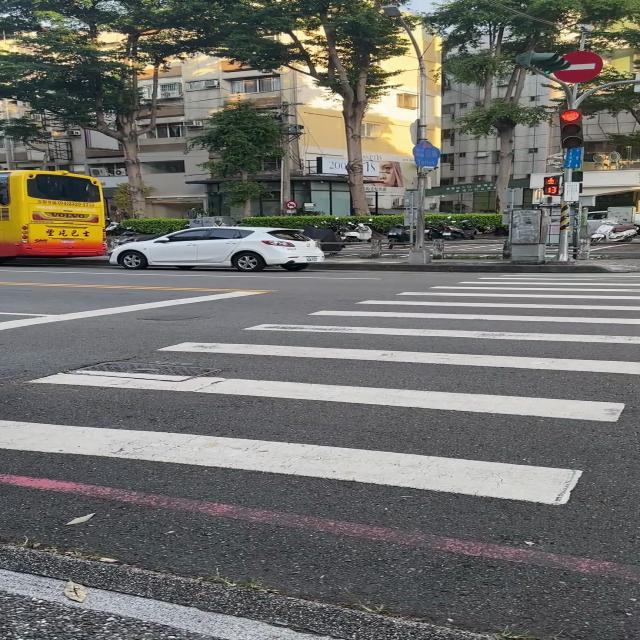bus: (0, 170, 106, 259)
car: (108, 226, 324, 271)
crosswalk: (0, 272, 640, 506)
